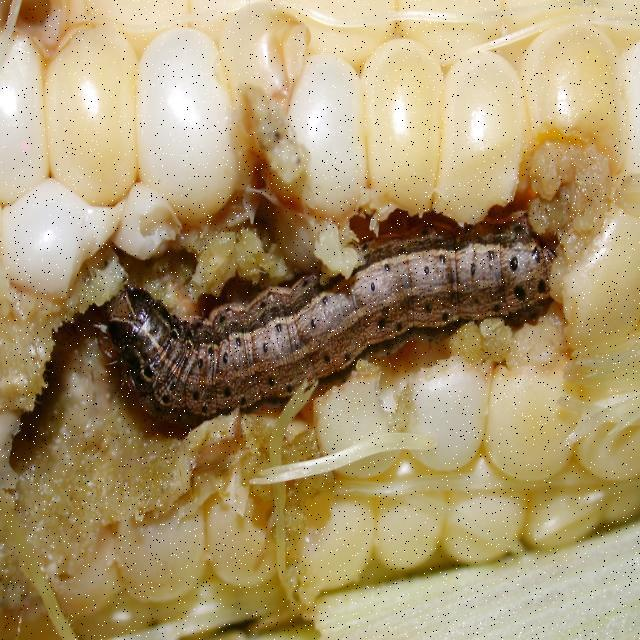army worm: (70, 175, 597, 440)
